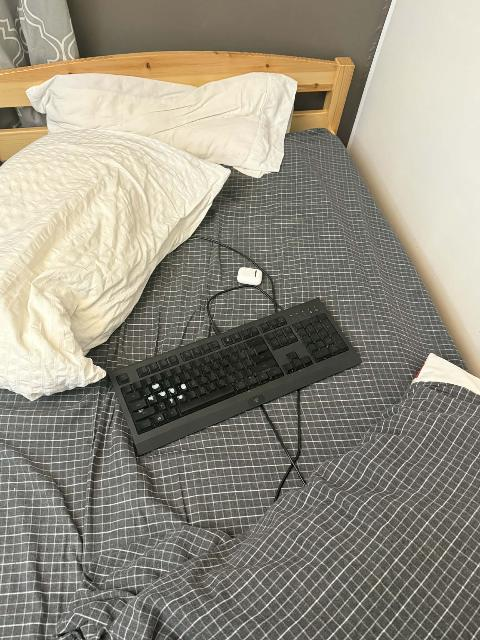ahkeyboard: (98, 284, 377, 483)
